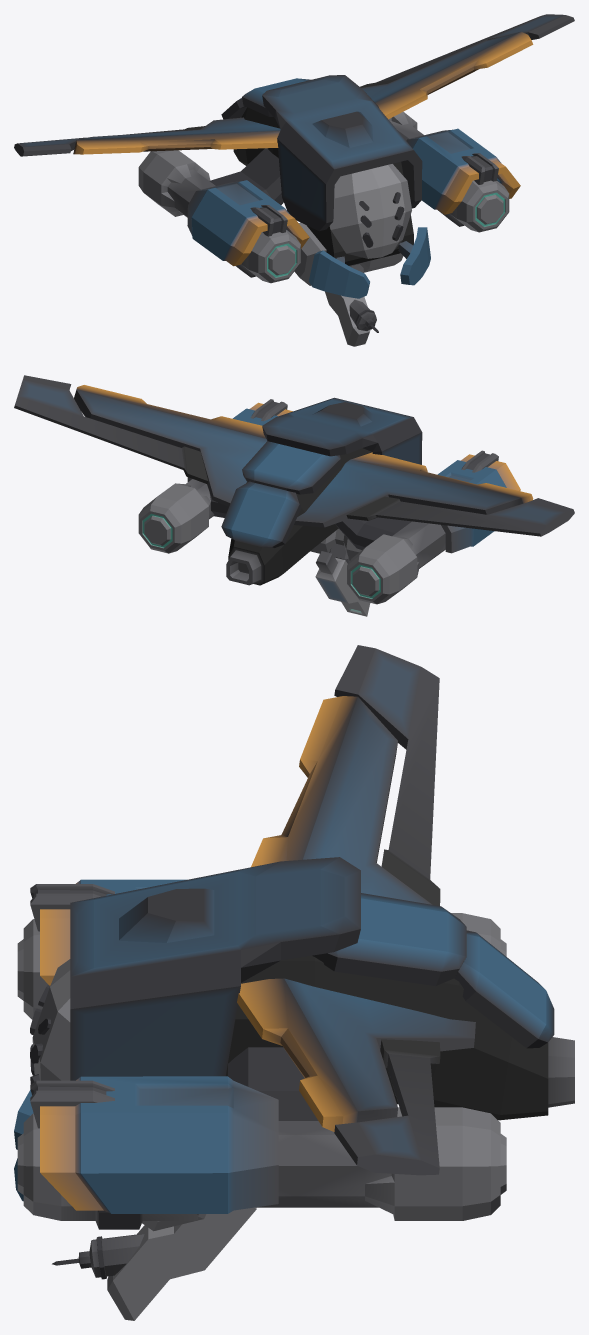
The model's file is drone_repair.glb.
3 views of the same model, one above another, from view 1: azimuth 30°, elevation 25°; view 2: azimuth 150°, elevation 25°; view 3: azimuth 270°, elevation 25° (orthographic). The views are drawn at different scales.
Parts seen in each view (by area): view 1: SM_Veh_Drone_Repair_01; view 2: SM_Veh_Drone_Repair_01; view 3: SM_Veh_Drone_Repair_01.
Boxes of the visible parts, <box> form: SM_Veh_Drone_Repair_01: <box>14,14,574,346</box>; SM_Veh_Drone_Repair_01: <box>14,375,574,616</box>; SM_Veh_Drone_Repair_01: <box>14,645,574,1320</box>.
Size of the model in its own units: 4.33 by 1.64 by 2.
